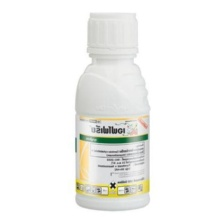insecticide: (72, 7, 153, 213)
